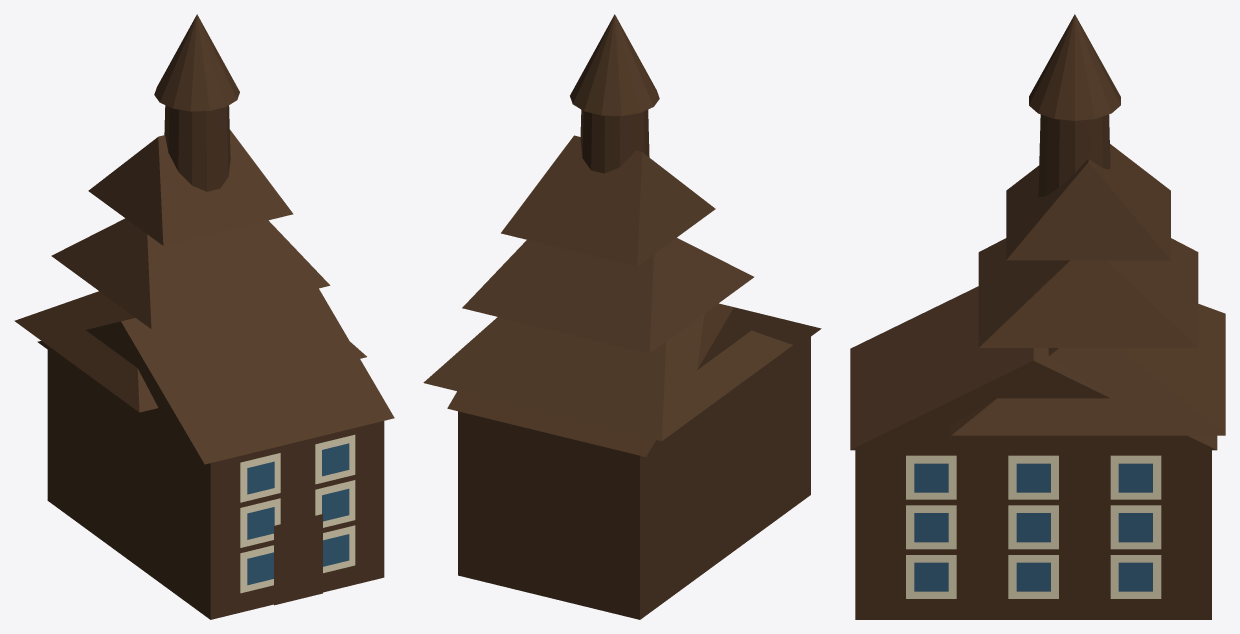
The model's file is building_stave_church.fbx.
3 views of the same model, side by side, from view 1: azimuth 30°, elevation 25°; view 2: azimuth 150°, elevation 25°; view 3: azimuth 270°, elevation 25° (orthographic). The views are drawn at different scales.
Parts seen in each view (by area): view 1: building_stave_church; view 2: building_stave_church; view 3: building_stave_church.
Part boxes in pixels (x1,y1,x2,y2): building_stave_church: (14, 14, 394, 619); building_stave_church: (423, 14, 821, 619); building_stave_church: (850, 14, 1225, 619).
Size of the model in its own units: 42 by 90 by 54.75.
